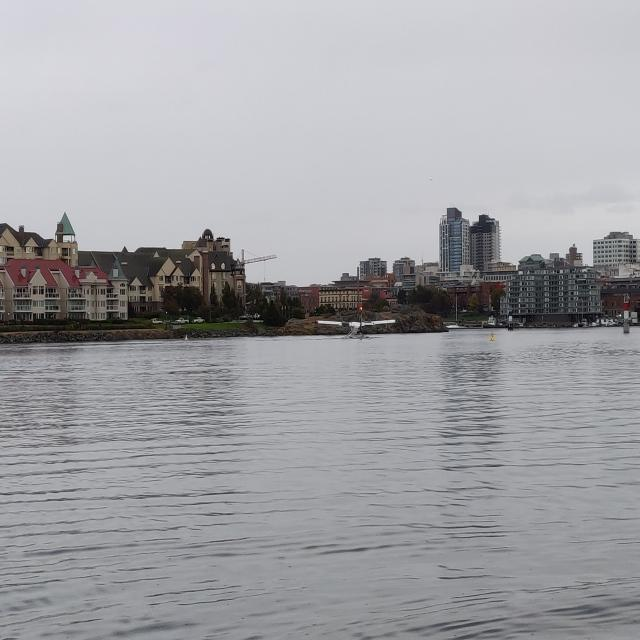aircraft: (316, 305, 397, 340)
mark: (622, 297, 630, 333), (508, 305, 513, 331), (489, 331, 495, 342), (184, 334, 188, 340)
